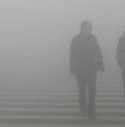person: (70, 20, 104, 117), (116, 32, 125, 82)
